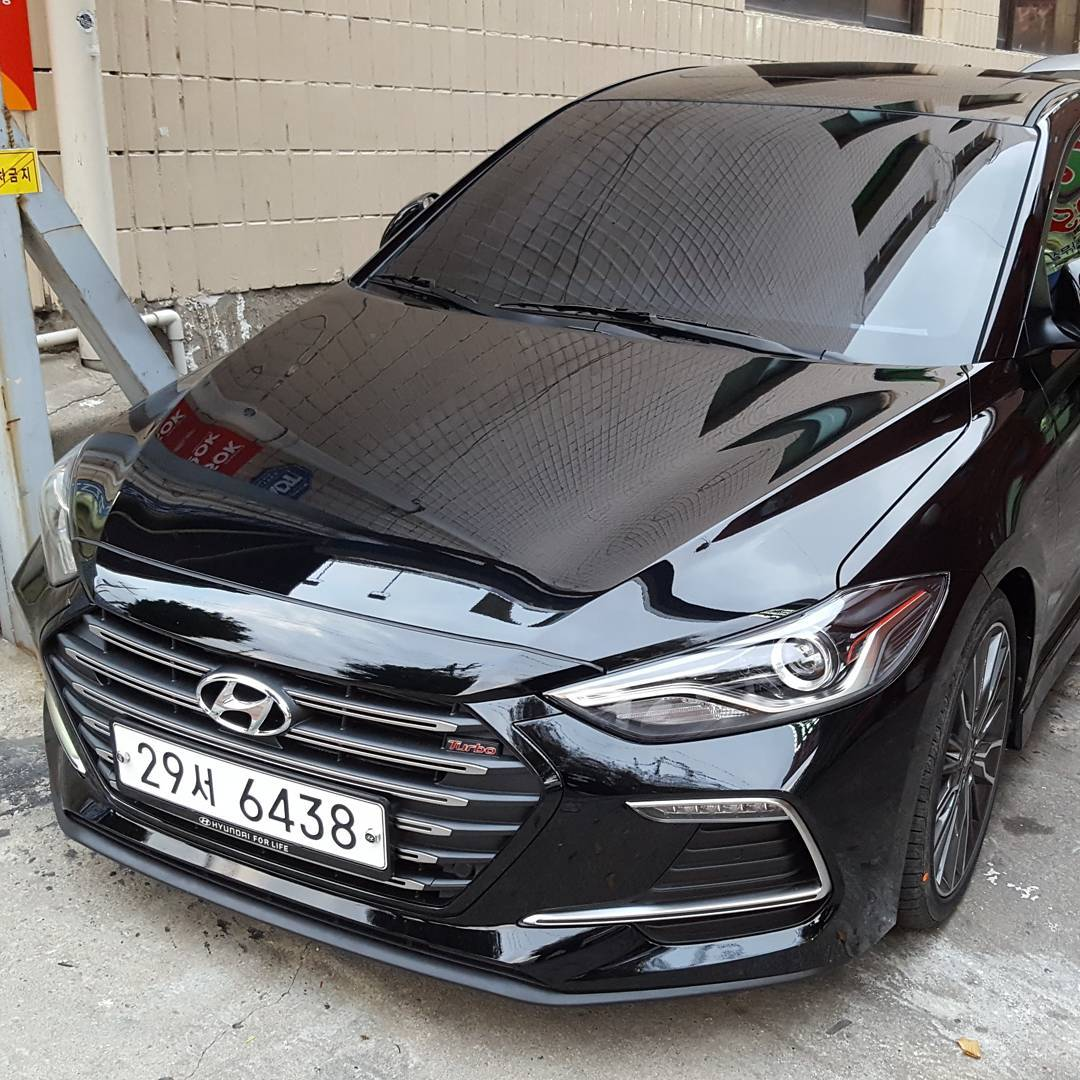plate: (114, 724, 386, 869)
